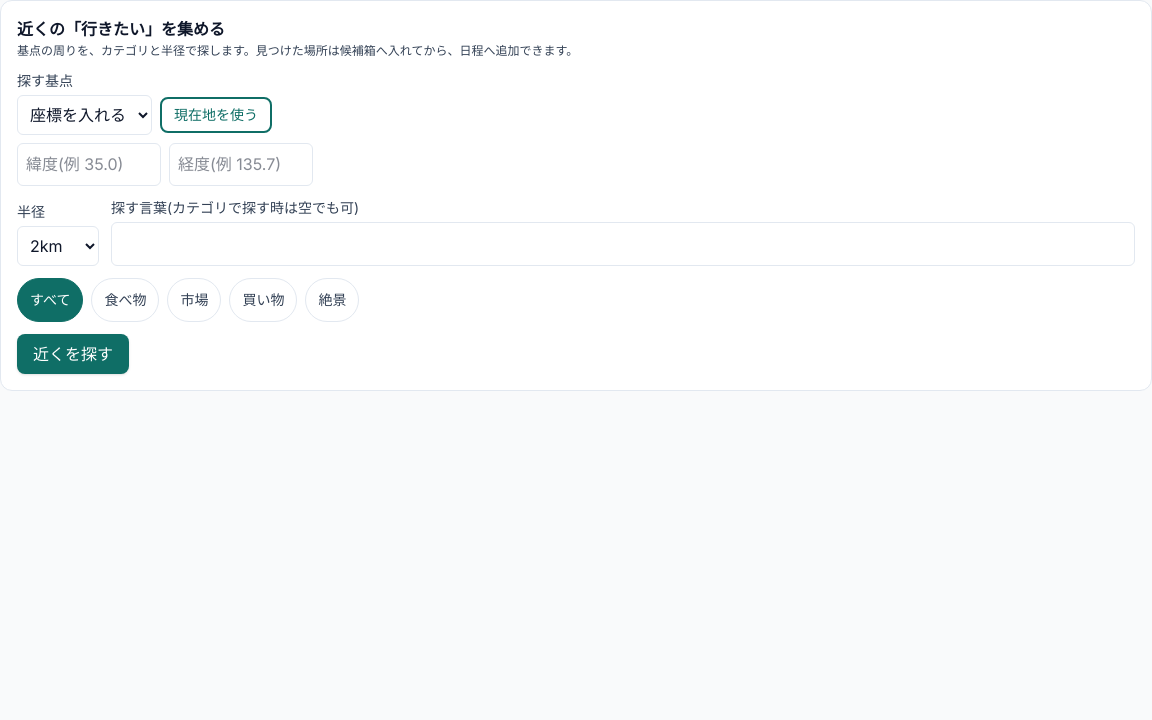
Test: 近くの「行きたい」を集める › 座標の手入力は範囲を確かめる。失敗は値を作らずに知らせる
Type "甘味" into the field labelled "探す言葉(カテゴリで探す時は空でも可)".
click(623, 244); type("甘味")  # box [111,222,1135,266]
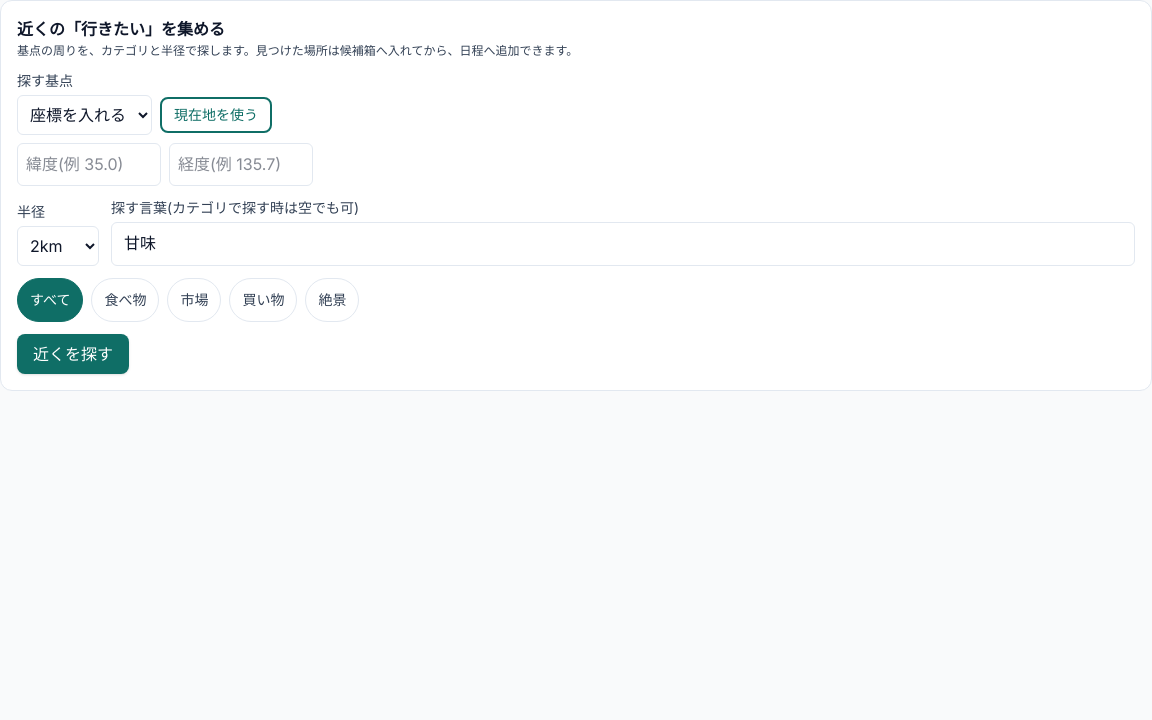
Type "95" into the field labelled "緯度".
click(89, 164); type("95")  # box [17,143,161,186]
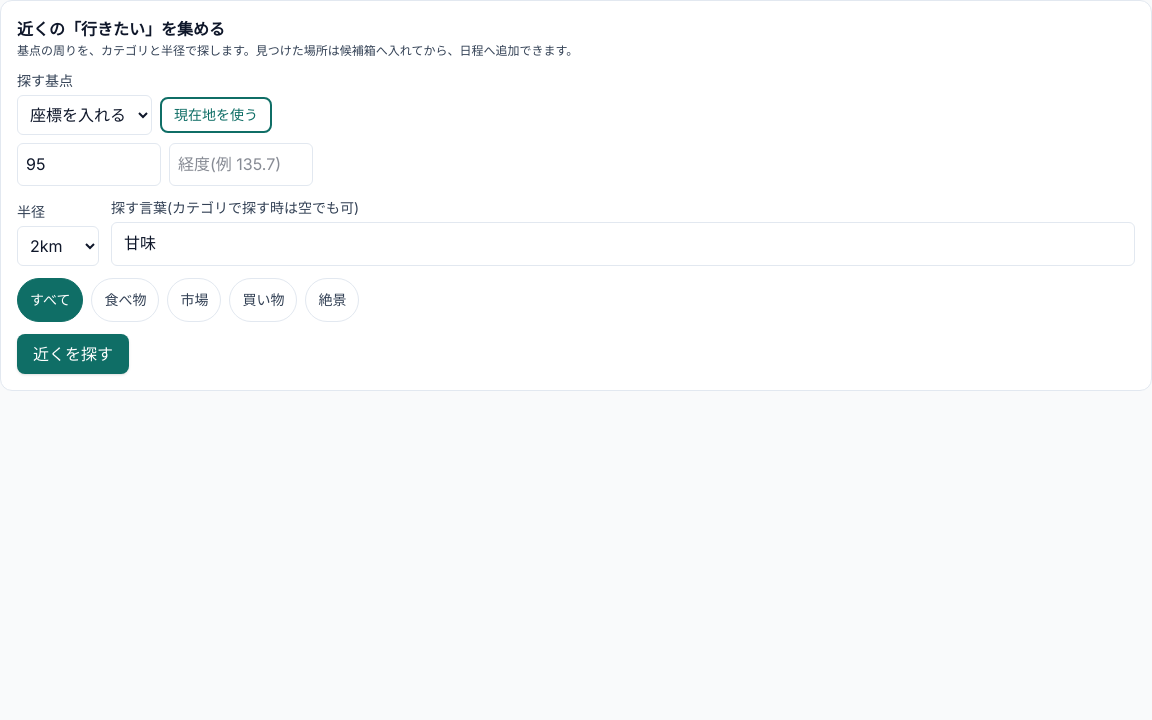
Type "135" into the field labelled "経度".
click(241, 164); type("135")  # box [169,143,313,186]
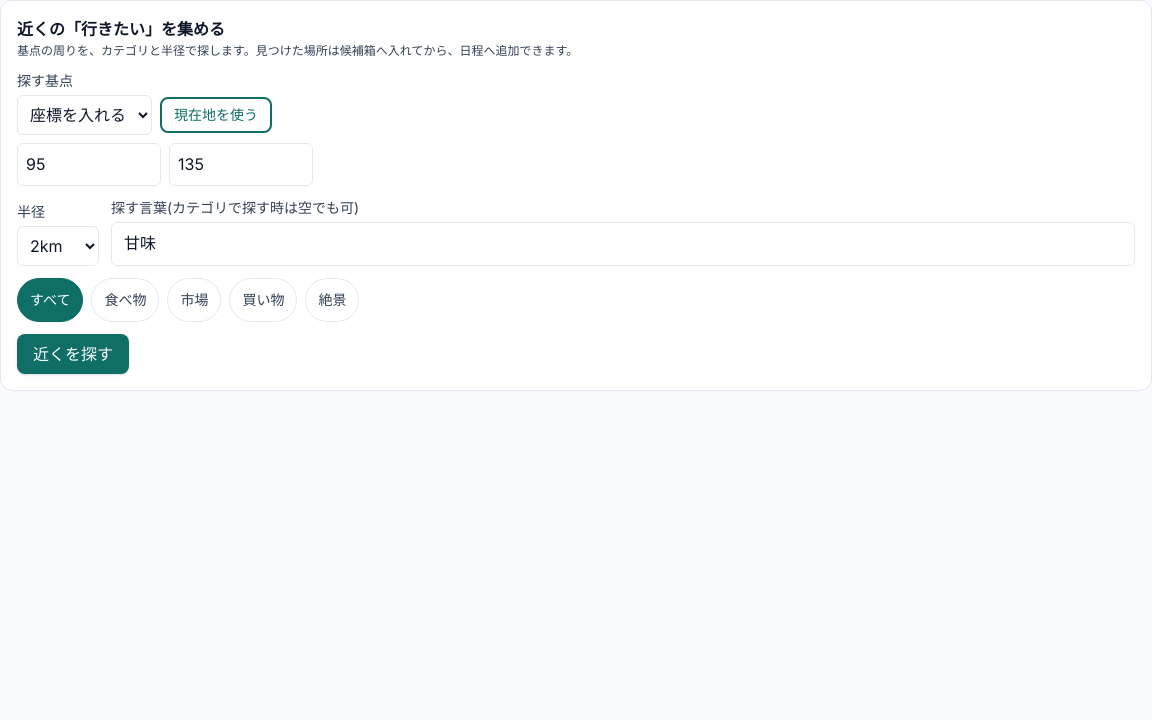
Click the button with test id "nearby-search".
click(73, 354)  # box [17,334,129,374]
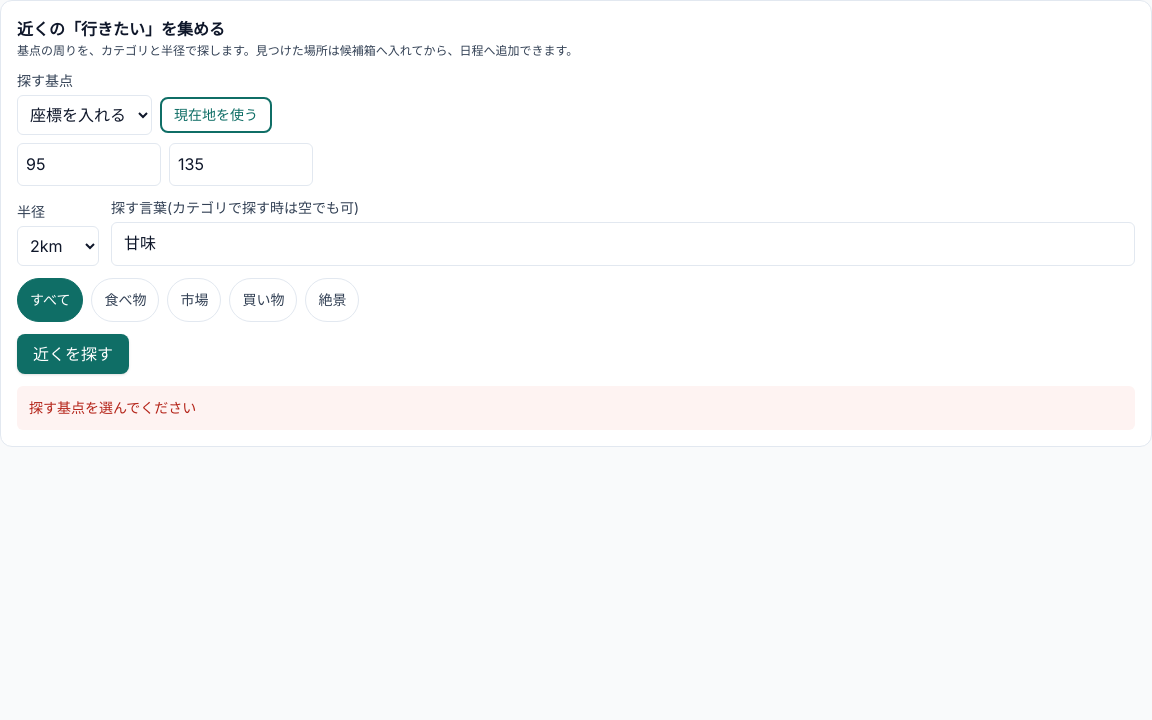
Now the message reads "探す基点を選んでください", box [29,399,196,416]
Replace the text in the field named "緯度" with "35" at (89, 164), box [17,143,161,186]
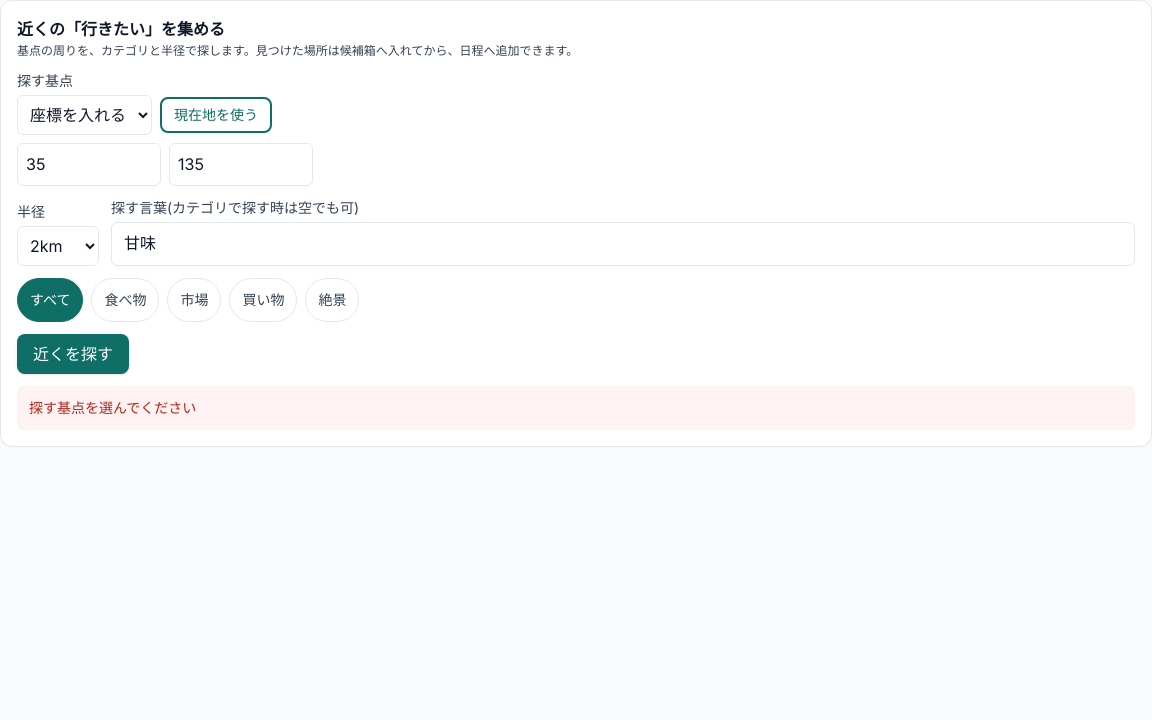
Click the button with test id "nearby-search".
click(73, 354)  # box [17,334,129,374]
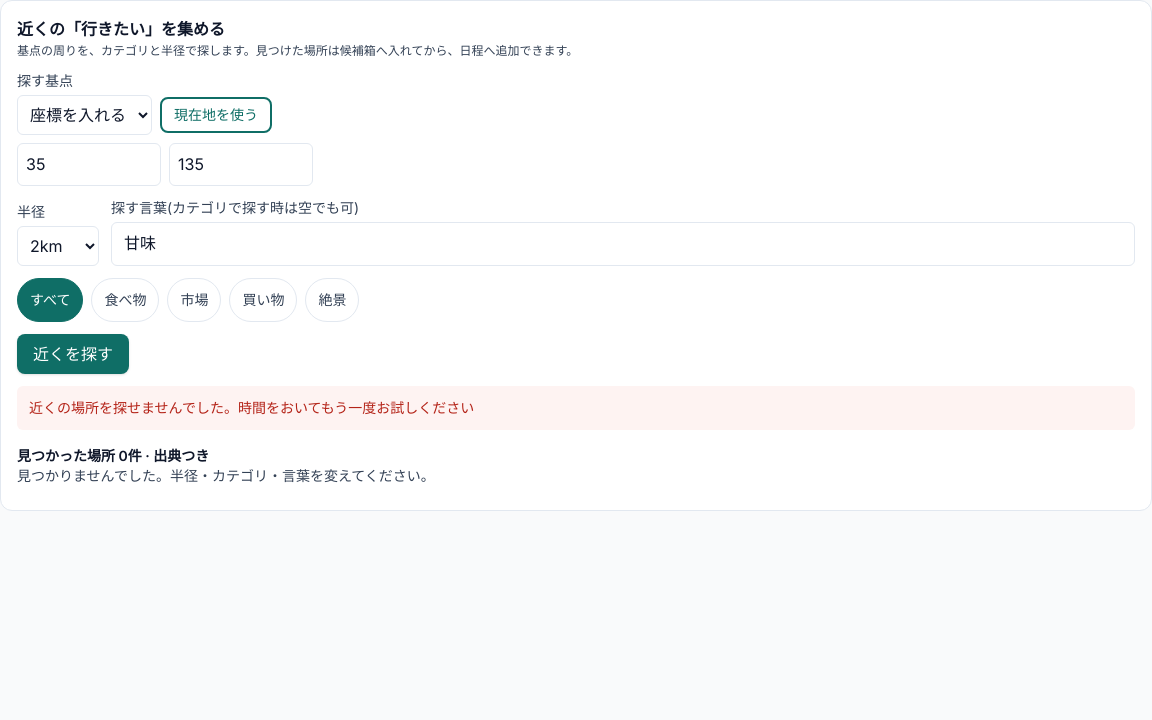
Now the message shows "探せませんでした", box [29,399,474,416]
